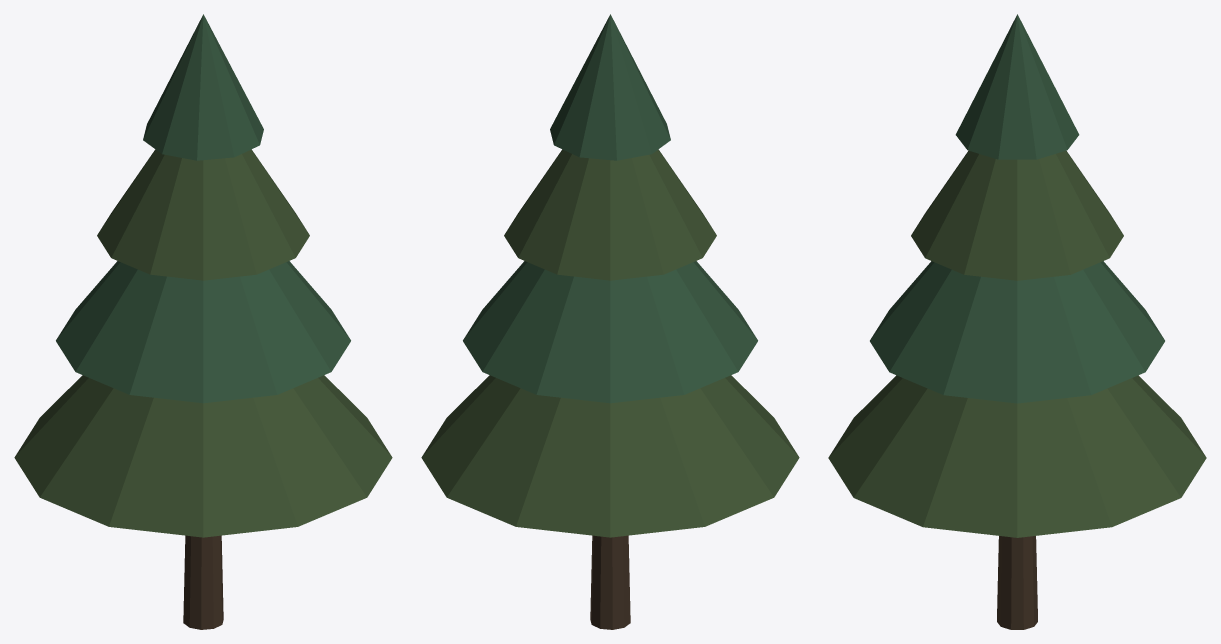
Rendered from env_tree_a.glb.
3 views of the same model, side by side, from view 1: azimuth 30°, elevation 25°; view 2: azimuth 150°, elevation 25°; view 3: azimuth 270°, elevation 25° (orthographic).
Parts seen in each view (by area): view 1: env_tree_a; view 2: env_tree_a; view 3: env_tree_a.
Boxes of the visible parts, <box> form: env_tree_a: <box>14,14,392,629</box>; env_tree_a: <box>421,14,799,629</box>; env_tree_a: <box>828,14,1206,629</box>.
Bounding box in the file's own units: 4.4 × 7.8 × 4.4.
